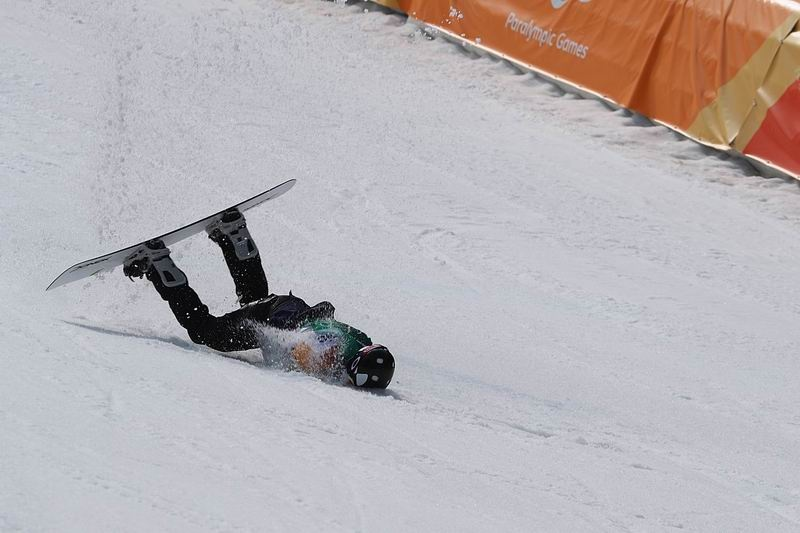falling: (100, 192, 427, 403)
